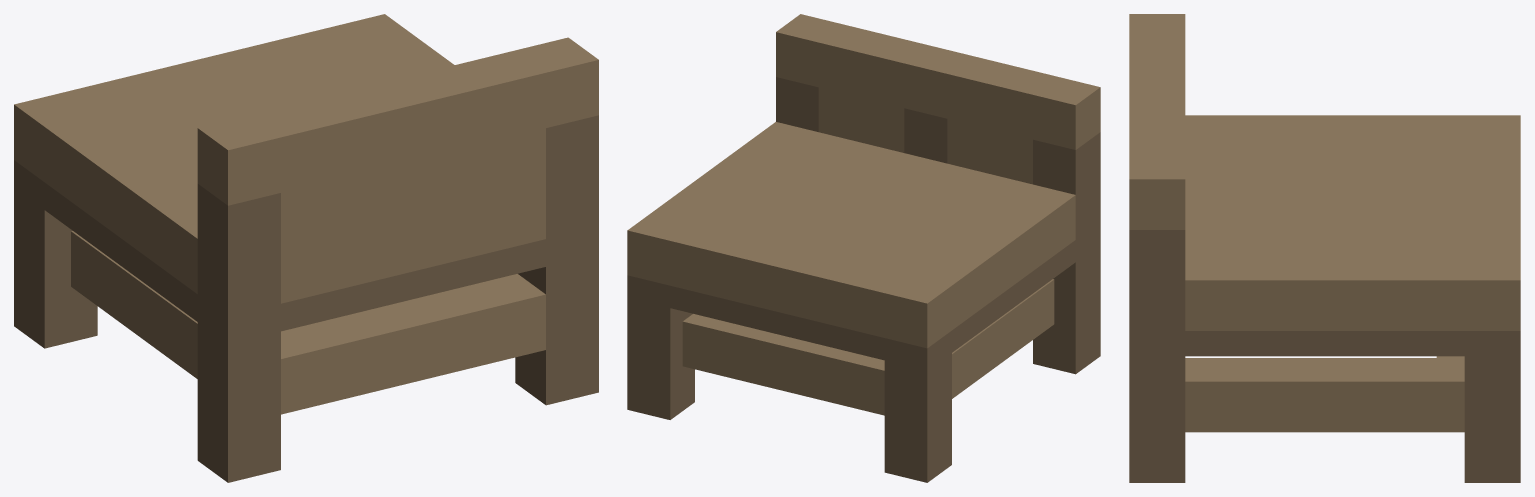
Rendered from silla_escribano_jarl_01.glb.
The picture shows the model from 3 angles, left to right: view 1: azimuth 30°, elevation 25°; view 2: azimuth 150°, elevation 25°; view 3: azimuth 270°, elevation 25°; orthographic projection. The views are drawn at different scales.
Parts seen in each view (by area): view 1: silla_escribano_jarl; view 2: silla_escribano_jarl; view 3: silla_escribano_jarl.
Part boxes in pixels (<box>): silla_escribano_jarl: <box>14,14,598,482</box>; silla_escribano_jarl: <box>627,14,1100,482</box>; silla_escribano_jarl: <box>1129,14,1520,482</box>.
Size of the model in its own units: 1 by 0.8571 by 1.
